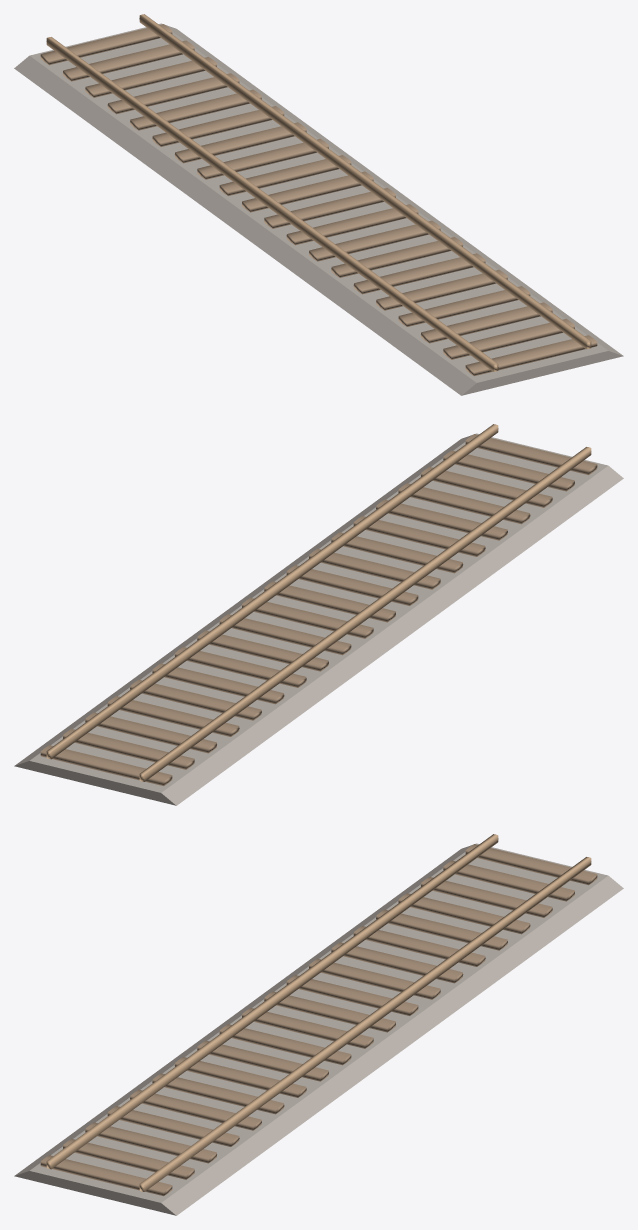
Rendered from StruggleTrack.glb.
The picture shows the model from 3 angles, top to bottom: view 1: azimuth 30°, elevation 25°; view 2: azimuth 150°, elevation 25°; view 3: azimuth 330°, elevation 25°; orthographic projection.
Parts seen in each view (by area): view 1: Ballast, Sleepers, Rails; view 2: Ballast, Sleepers, Rails; view 3: Ballast, Sleepers, Rails.
Part boxes in pixels (x1,y1,x2,y2): Ballast: [14, 23, 623, 395]; Sleepers: [40, 24, 597, 376]; Rails: [46, 14, 591, 371]; Ballast: [14, 433, 623, 805]; Sleepers: [40, 434, 597, 786]; Rails: [46, 424, 591, 781]; Ballast: [14, 843, 623, 1215]; Sleepers: [40, 844, 597, 1196]; Rails: [46, 834, 591, 1191].
Bounding box in the file's own units: 8.4 × 1.15 × 40.
